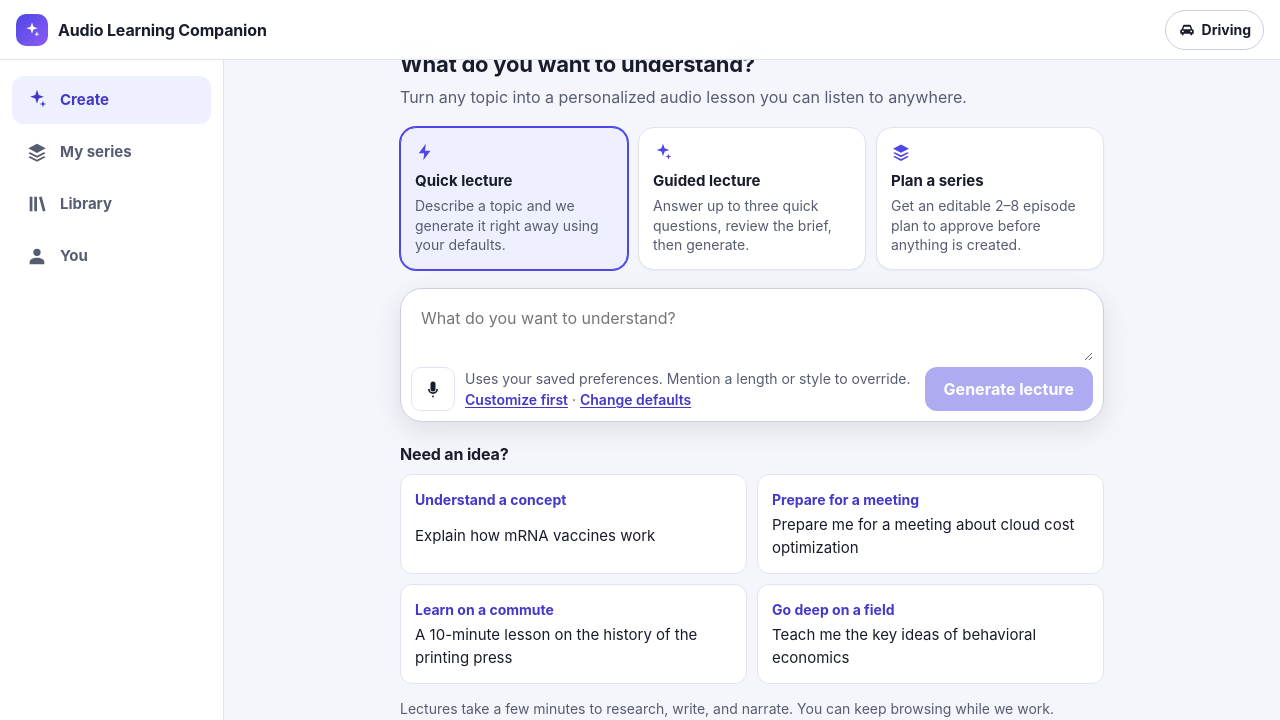
Test: authenticated › shows filter-specific empty states in Library
(page scrolled)
Check: the navigation bar named "Primary" is shown, box [0, 60, 224, 719]
Step 1. Click the button "Library" → (112, 204), box [12, 180, 211, 228]
(page scrolled)
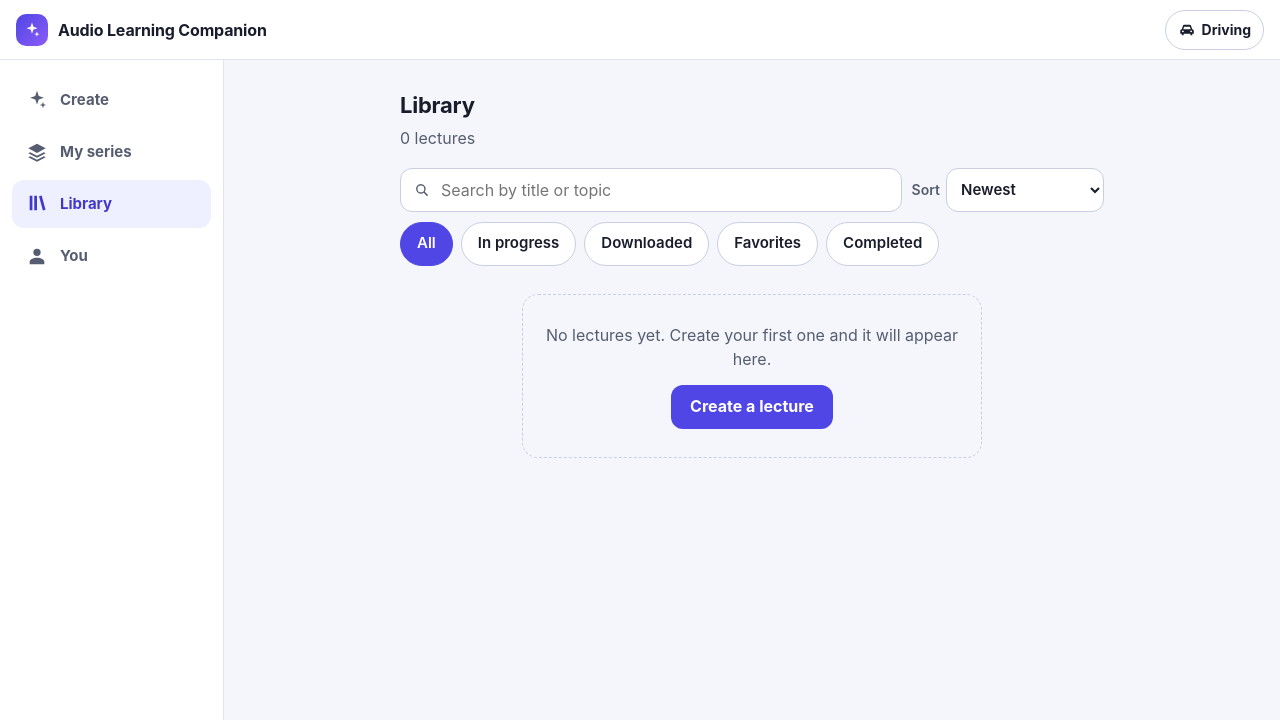
Check: the heading "Library" is shown, box [400, 92, 475, 120]
Check: the text "No lectures yet" is shown, box [546, 324, 958, 368]
Step 2. Click the button "Favorites" → (768, 244), box [717, 222, 818, 266]
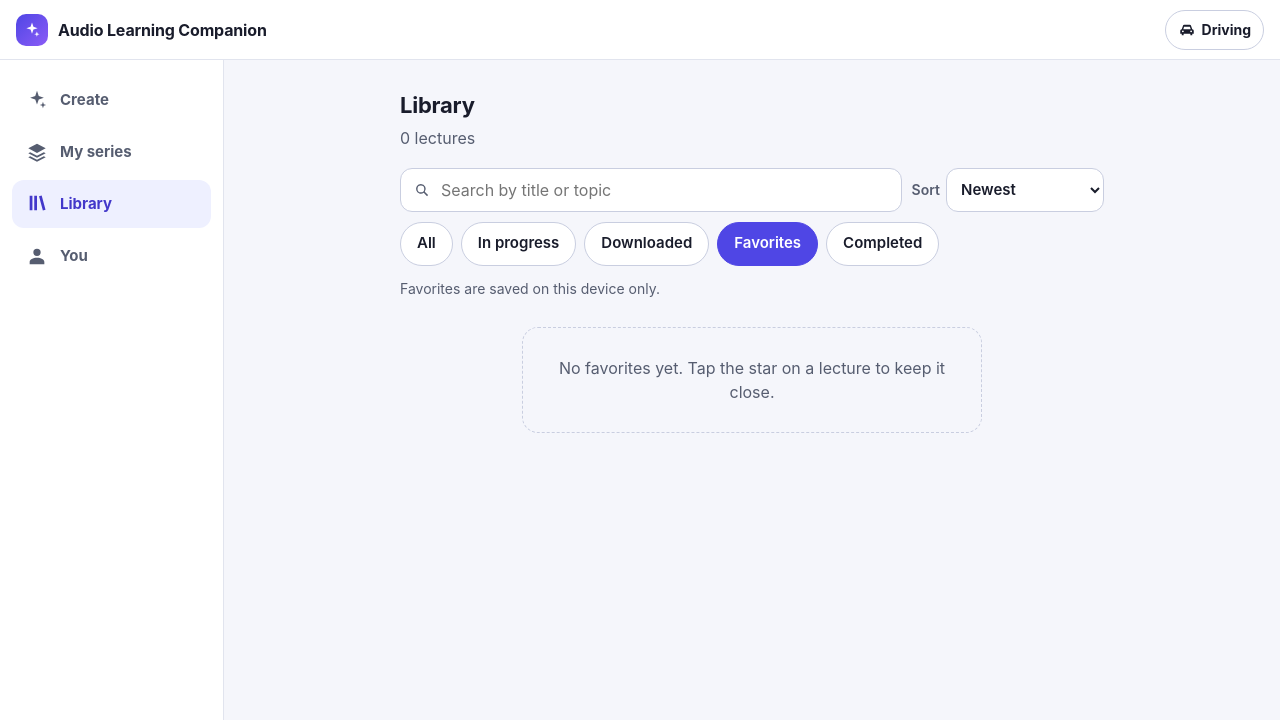
Check: the text "No favorites yet" is shown, box [559, 358, 945, 402]
Check: the text "Favorites are saved on this device only." is shown, box [400, 280, 660, 296]
